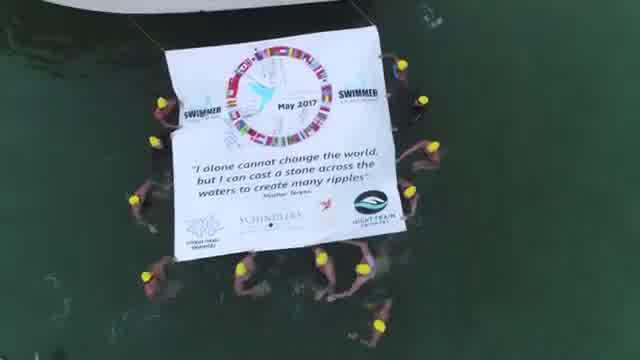human: (337, 241, 380, 298), (351, 297, 398, 347), (119, 185, 167, 231), (304, 246, 336, 300), (134, 257, 172, 302), (392, 137, 444, 169), (374, 50, 414, 90), (232, 256, 266, 298), (149, 98, 185, 128), (392, 178, 418, 216)
